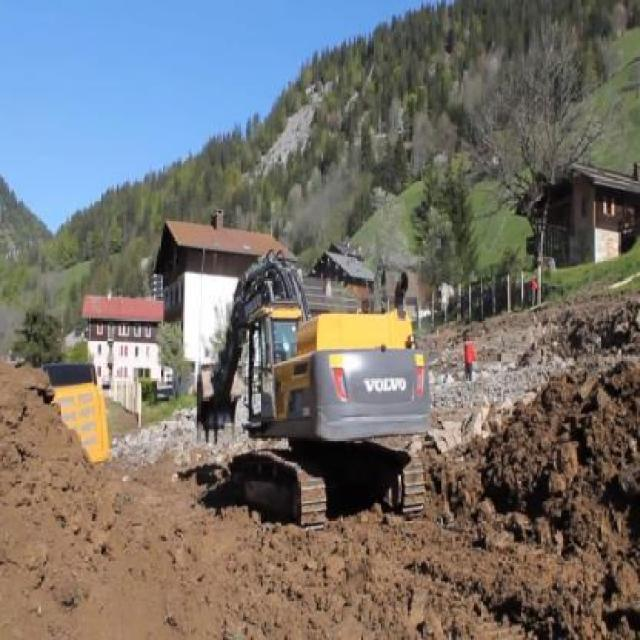excavator: (193, 247, 432, 528)
